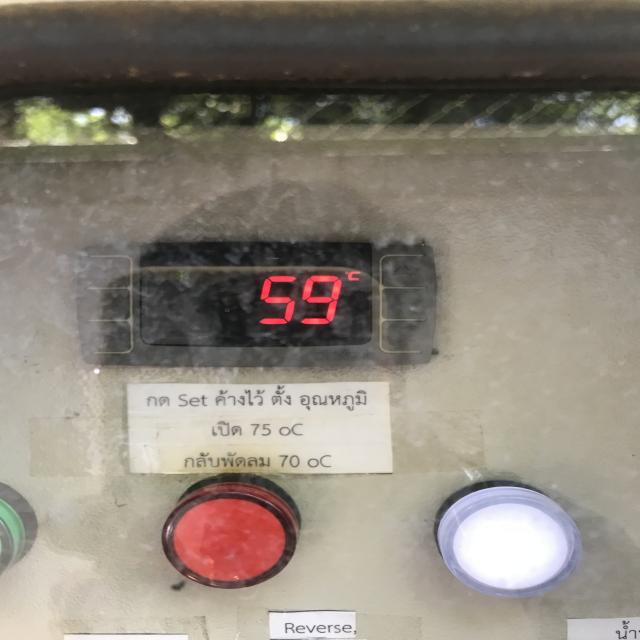display: (139, 243, 373, 347)
frame: (250, 265, 346, 328)
gauge: (85, 238, 438, 364)
